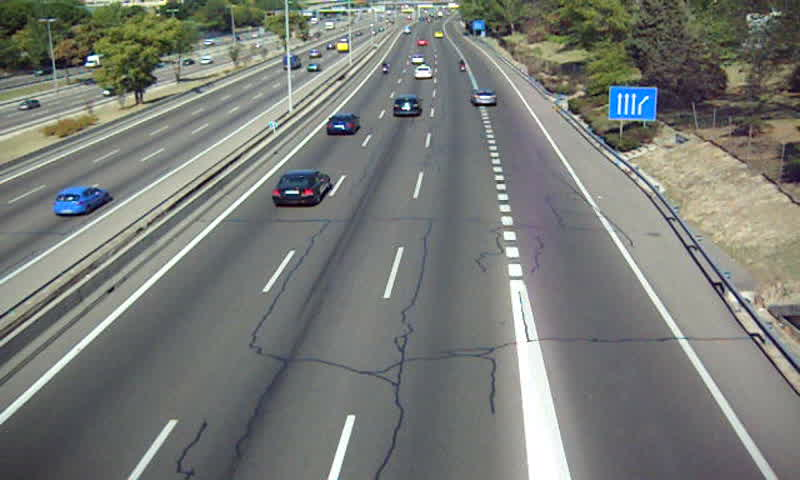car: (271, 169, 331, 208), (326, 113, 359, 136), (393, 94, 422, 118), (470, 91, 499, 108), (414, 64, 432, 81)
motorcycle: (381, 60, 390, 77), (458, 59, 467, 74)
